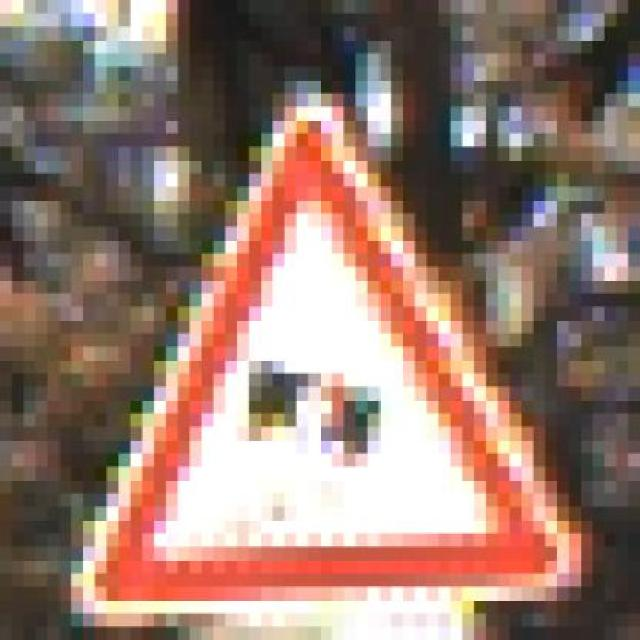Slippery Road Ahead: (58, 75, 592, 623)
